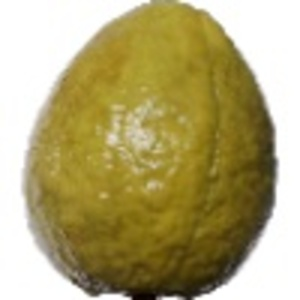goiaba: (16, 2, 283, 297)
